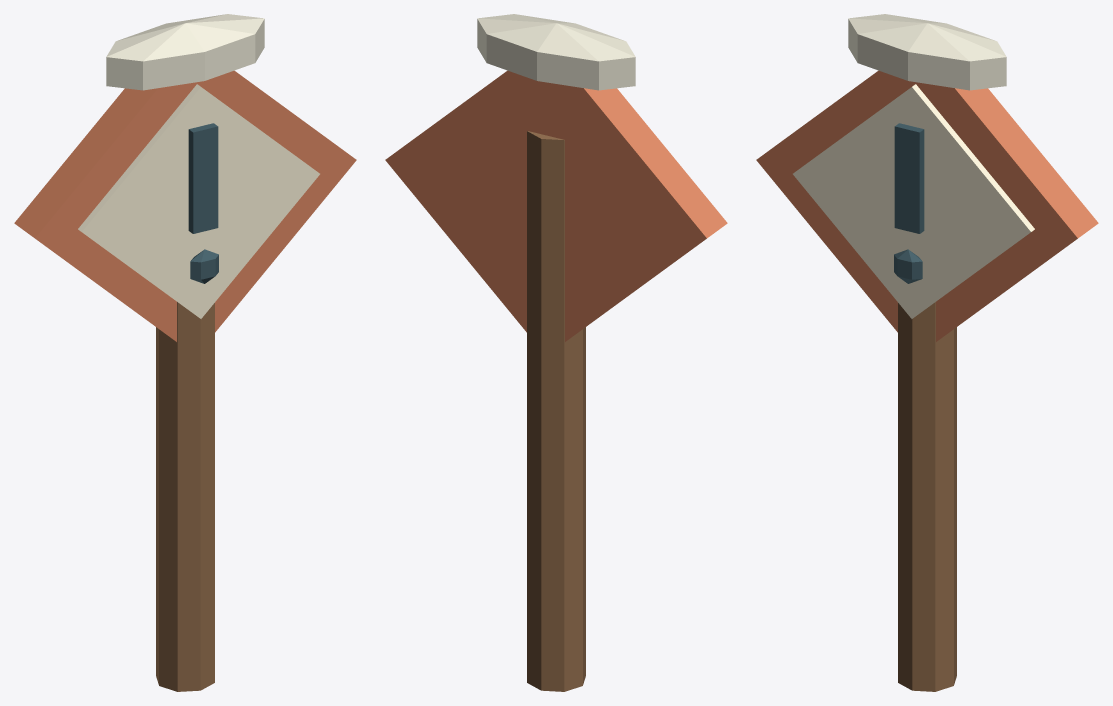
The model's file is warning-sign.glb.
The picture shows the model from 3 angles, left to right: view 1: azimuth 30°, elevation 25°; view 2: azimuth 150°, elevation 25°; view 3: azimuth 330°, elevation 25°; orthographic projection.
Visible parts, largest first — view 1: warning-sign; view 2: warning-sign; view 3: warning-sign.
Part boxes in pixels (x1,y1,x2,y2): warning-sign: (14,14,356,691); warning-sign: (385,14,727,691); warning-sign: (756,14,1098,691).
Size of the model in its own units: 1.16 by 2.26 by 0.2637.
